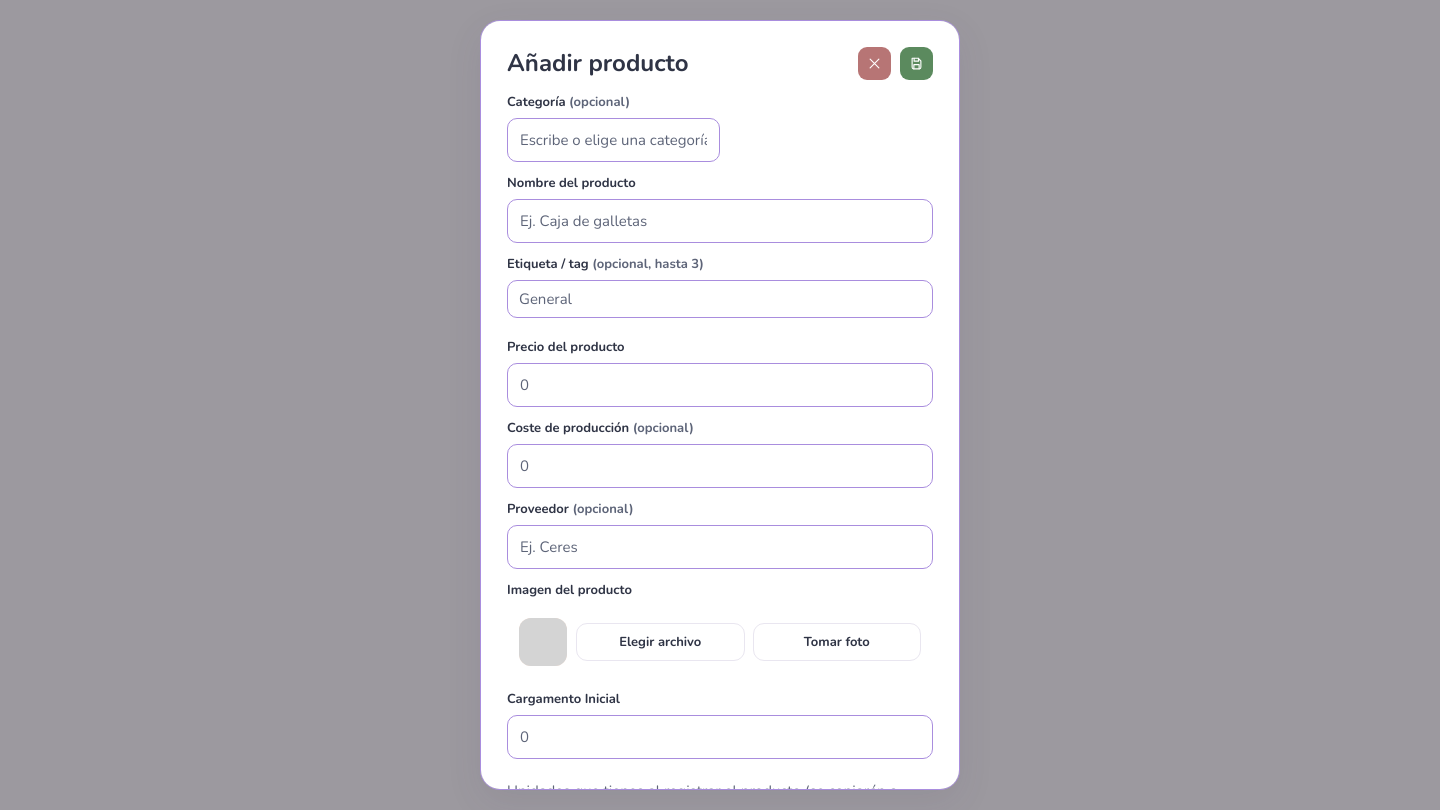
Test case: Tag opcional del producto › la lista de etiquetas sugeridas sale al hacer clic y va en orden alfabético
Focus the field with placeholder "General": (720, 299) [507,280,933,318]
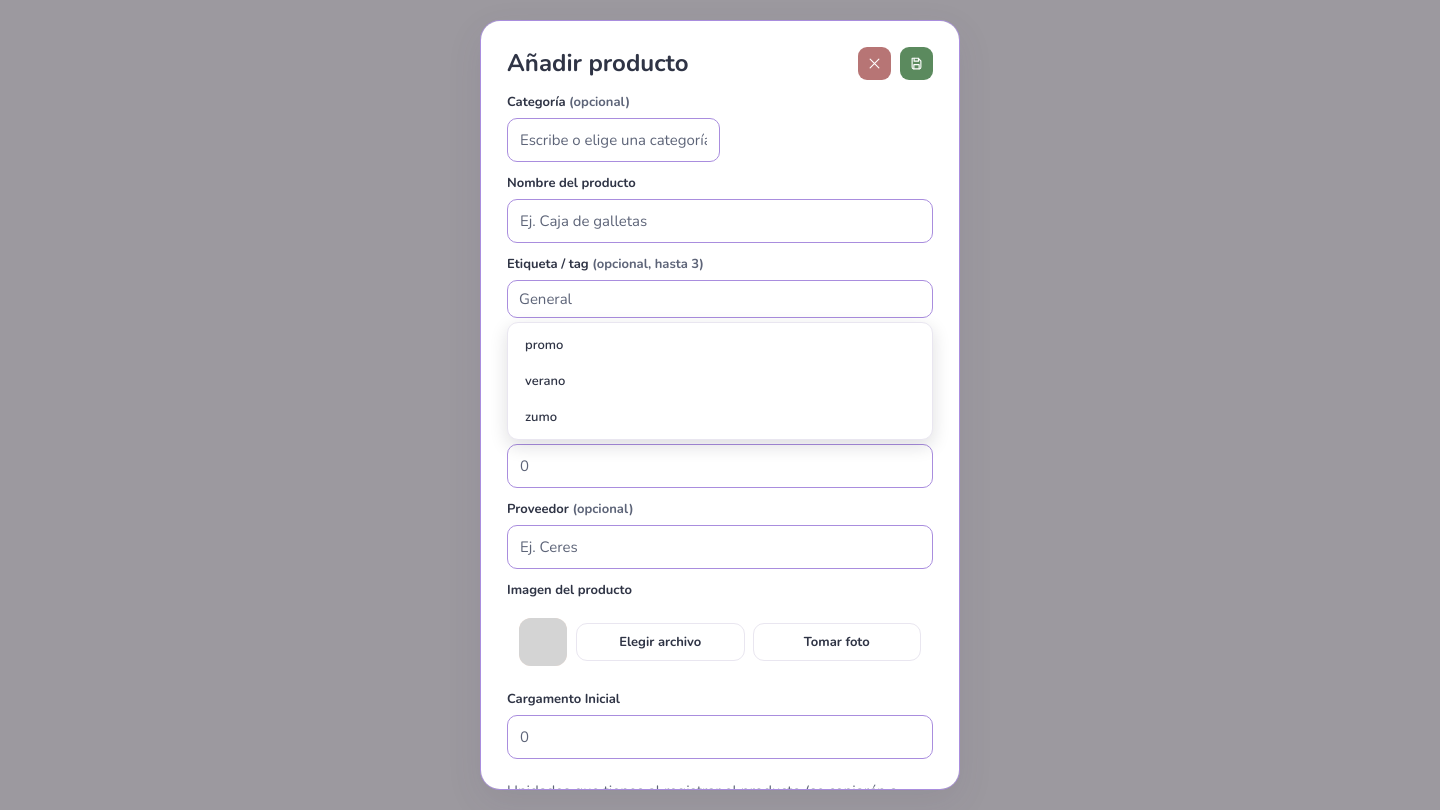
Press the mouse on the button "verano": (545, 381) [513,364,927,398]
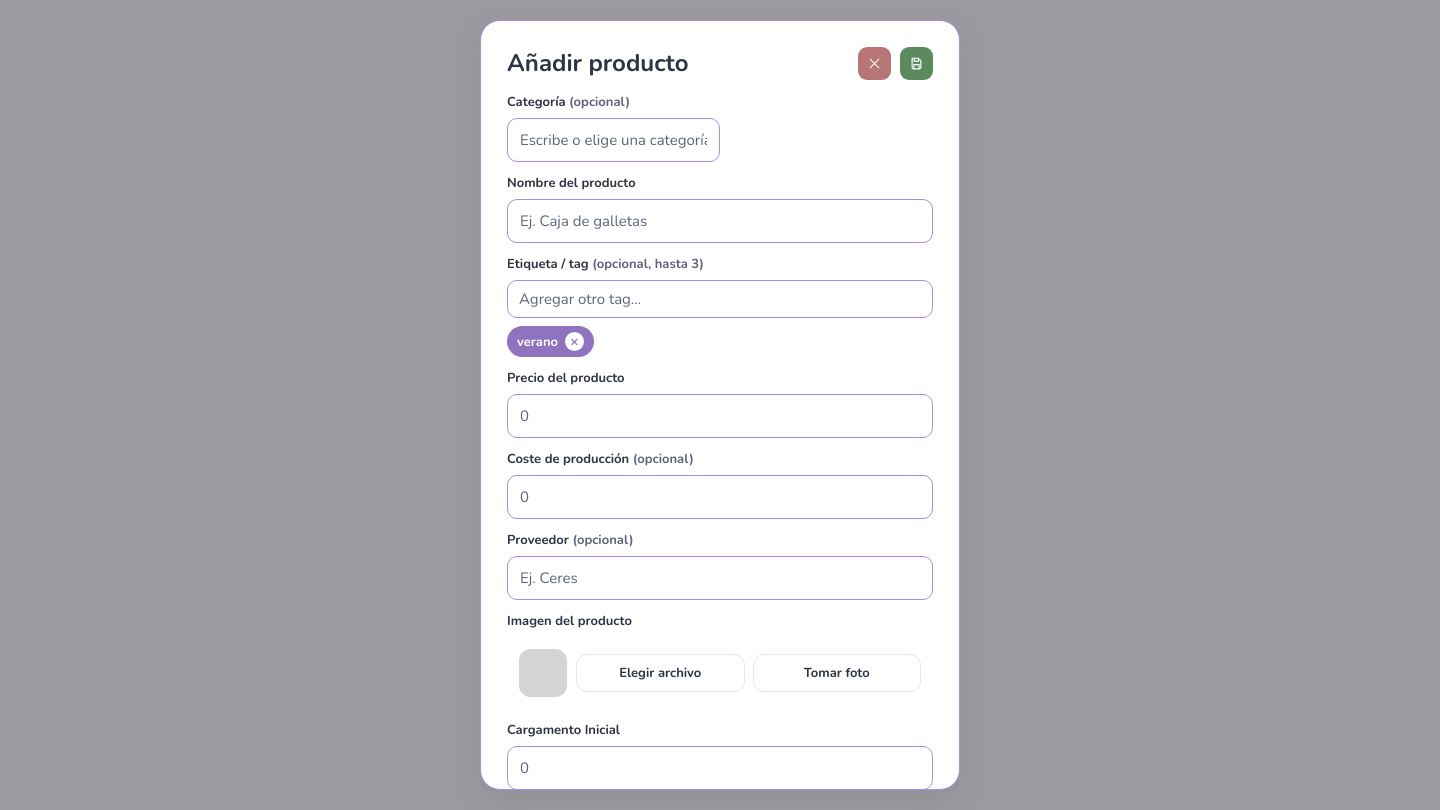
Click the field with placeholder "Agregar otro tag…": (720, 299) [507,280,933,318]
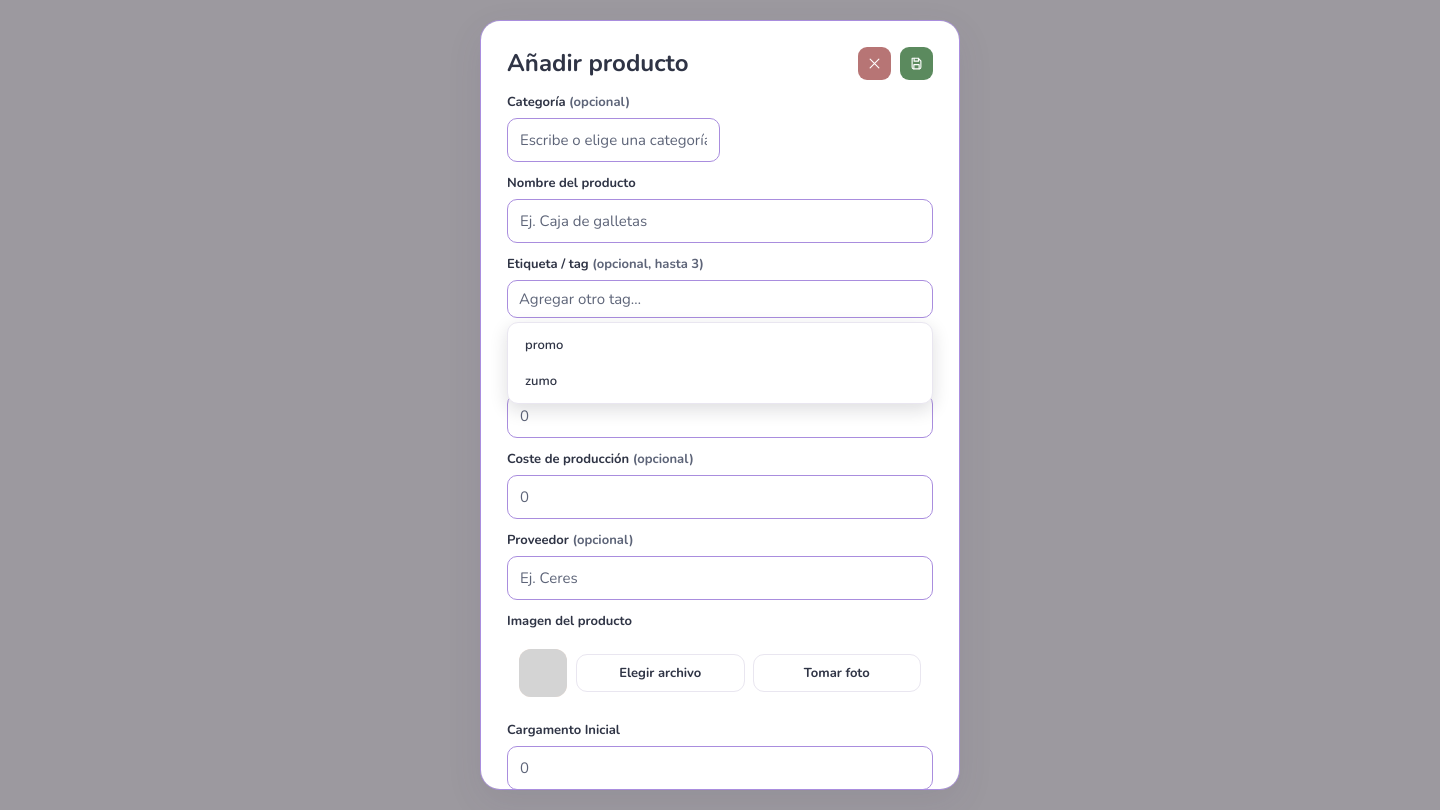
Expected: the button "promo" is shown, [513,328,927,362]
